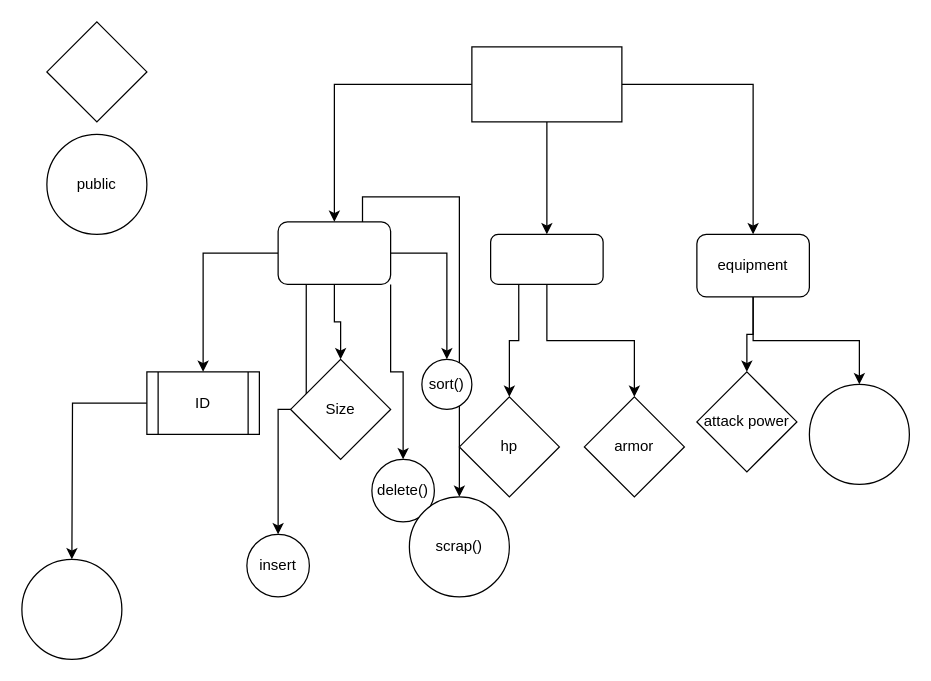
The diagram is 931 pixels wide and 681 high, and some of its shapes have lost their labels. Here are the shapes that lost their labels. From the top down, the centre of each, then its label:
At point 96,71: "private".
At point 546,84: "USERCHAR".
At point 334,252: "inventory".
At point 546,258: "stats".
At point 858,433: "equipped".
At point 71,608: "get reference".
